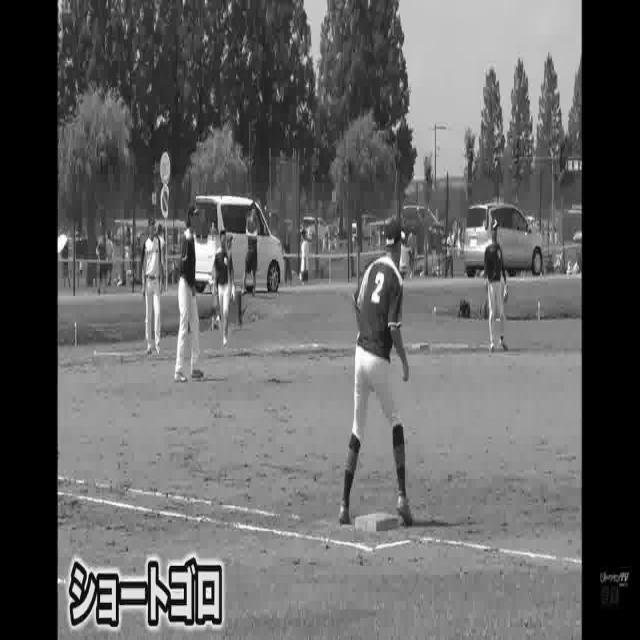base: (354, 512, 399, 534)
shoe: (397, 494, 418, 527), (338, 501, 352, 526), (192, 362, 207, 380), (173, 371, 189, 384)
